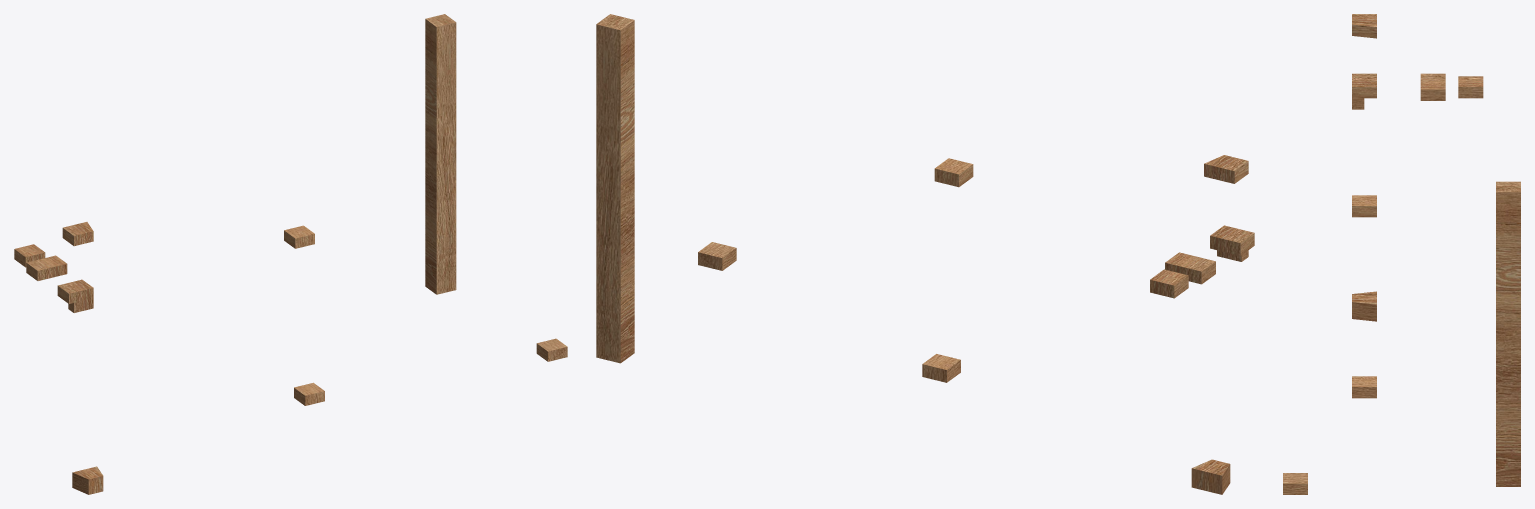
File: 21700_deepcad.glb
3 renders of one model, left to right at view 1: azimuth 30°, elevation 25°; view 2: azimuth 150°, elevation 25°; view 3: azimuth 270°, elevation 25°, orthographic. The views are drawn at different scales.
Visible parts, largest first — view 1: test_cmd_21700_pred; view 2: test_cmd_21700_pred; view 3: test_cmd_21700_pred.
Boxes of the visible parts, x1,y1,x2,y2 form: test_cmd_21700_pred: [14, 14, 567, 494]; test_cmd_21700_pred: [596, 14, 1254, 494]; test_cmd_21700_pred: [1283, 14, 1520, 494].
Size of the model in its own units: 1 by 0.6526 by 0.4.
1 material, 1 textured.
